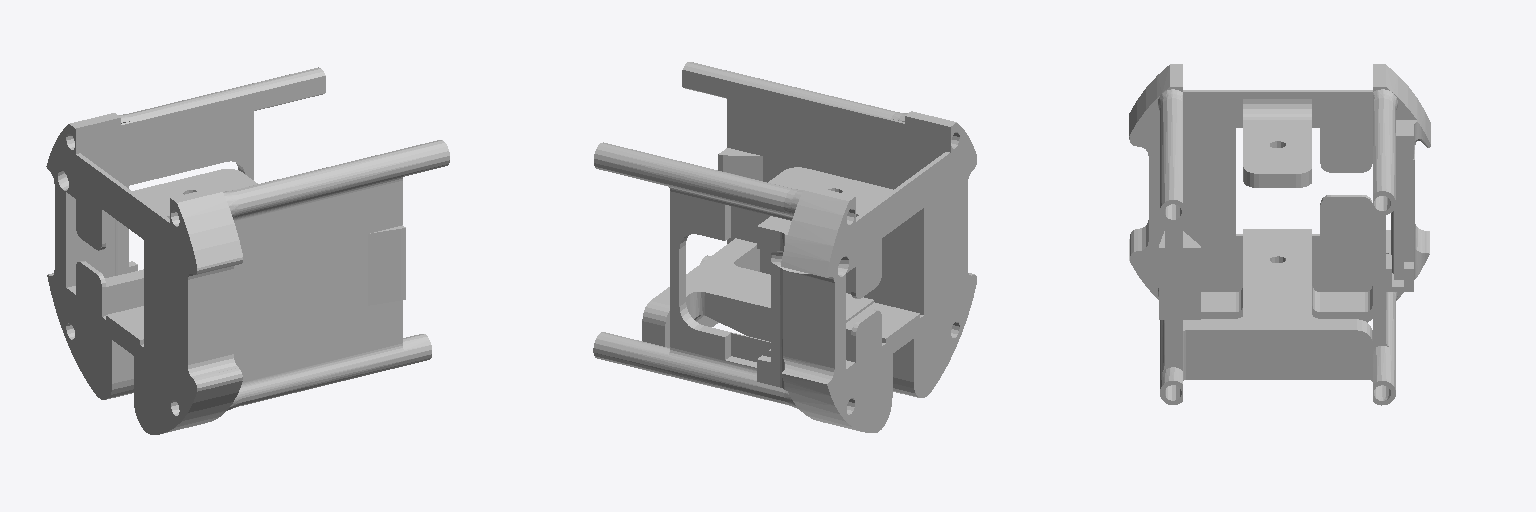
File: battery.obj
The picture shows the model from 3 angles: view 1: azimuth 30°, elevation 25°; view 2: azimuth 150°, elevation 25°; view 3: azimuth 270°, elevation 25°; orthographic projection.
Parts seen in each view (by area): view 1: Solid1; view 2: Solid1; view 3: Solid1.
Part boxes in pixels (bbox=[...]): Solid1: bbox=[46, 67, 449, 434]; Solid1: bbox=[593, 62, 976, 432]; Solid1: bbox=[1129, 64, 1430, 405].
Size of the model in its own units: 58.5 by 52.6 by 57.19.